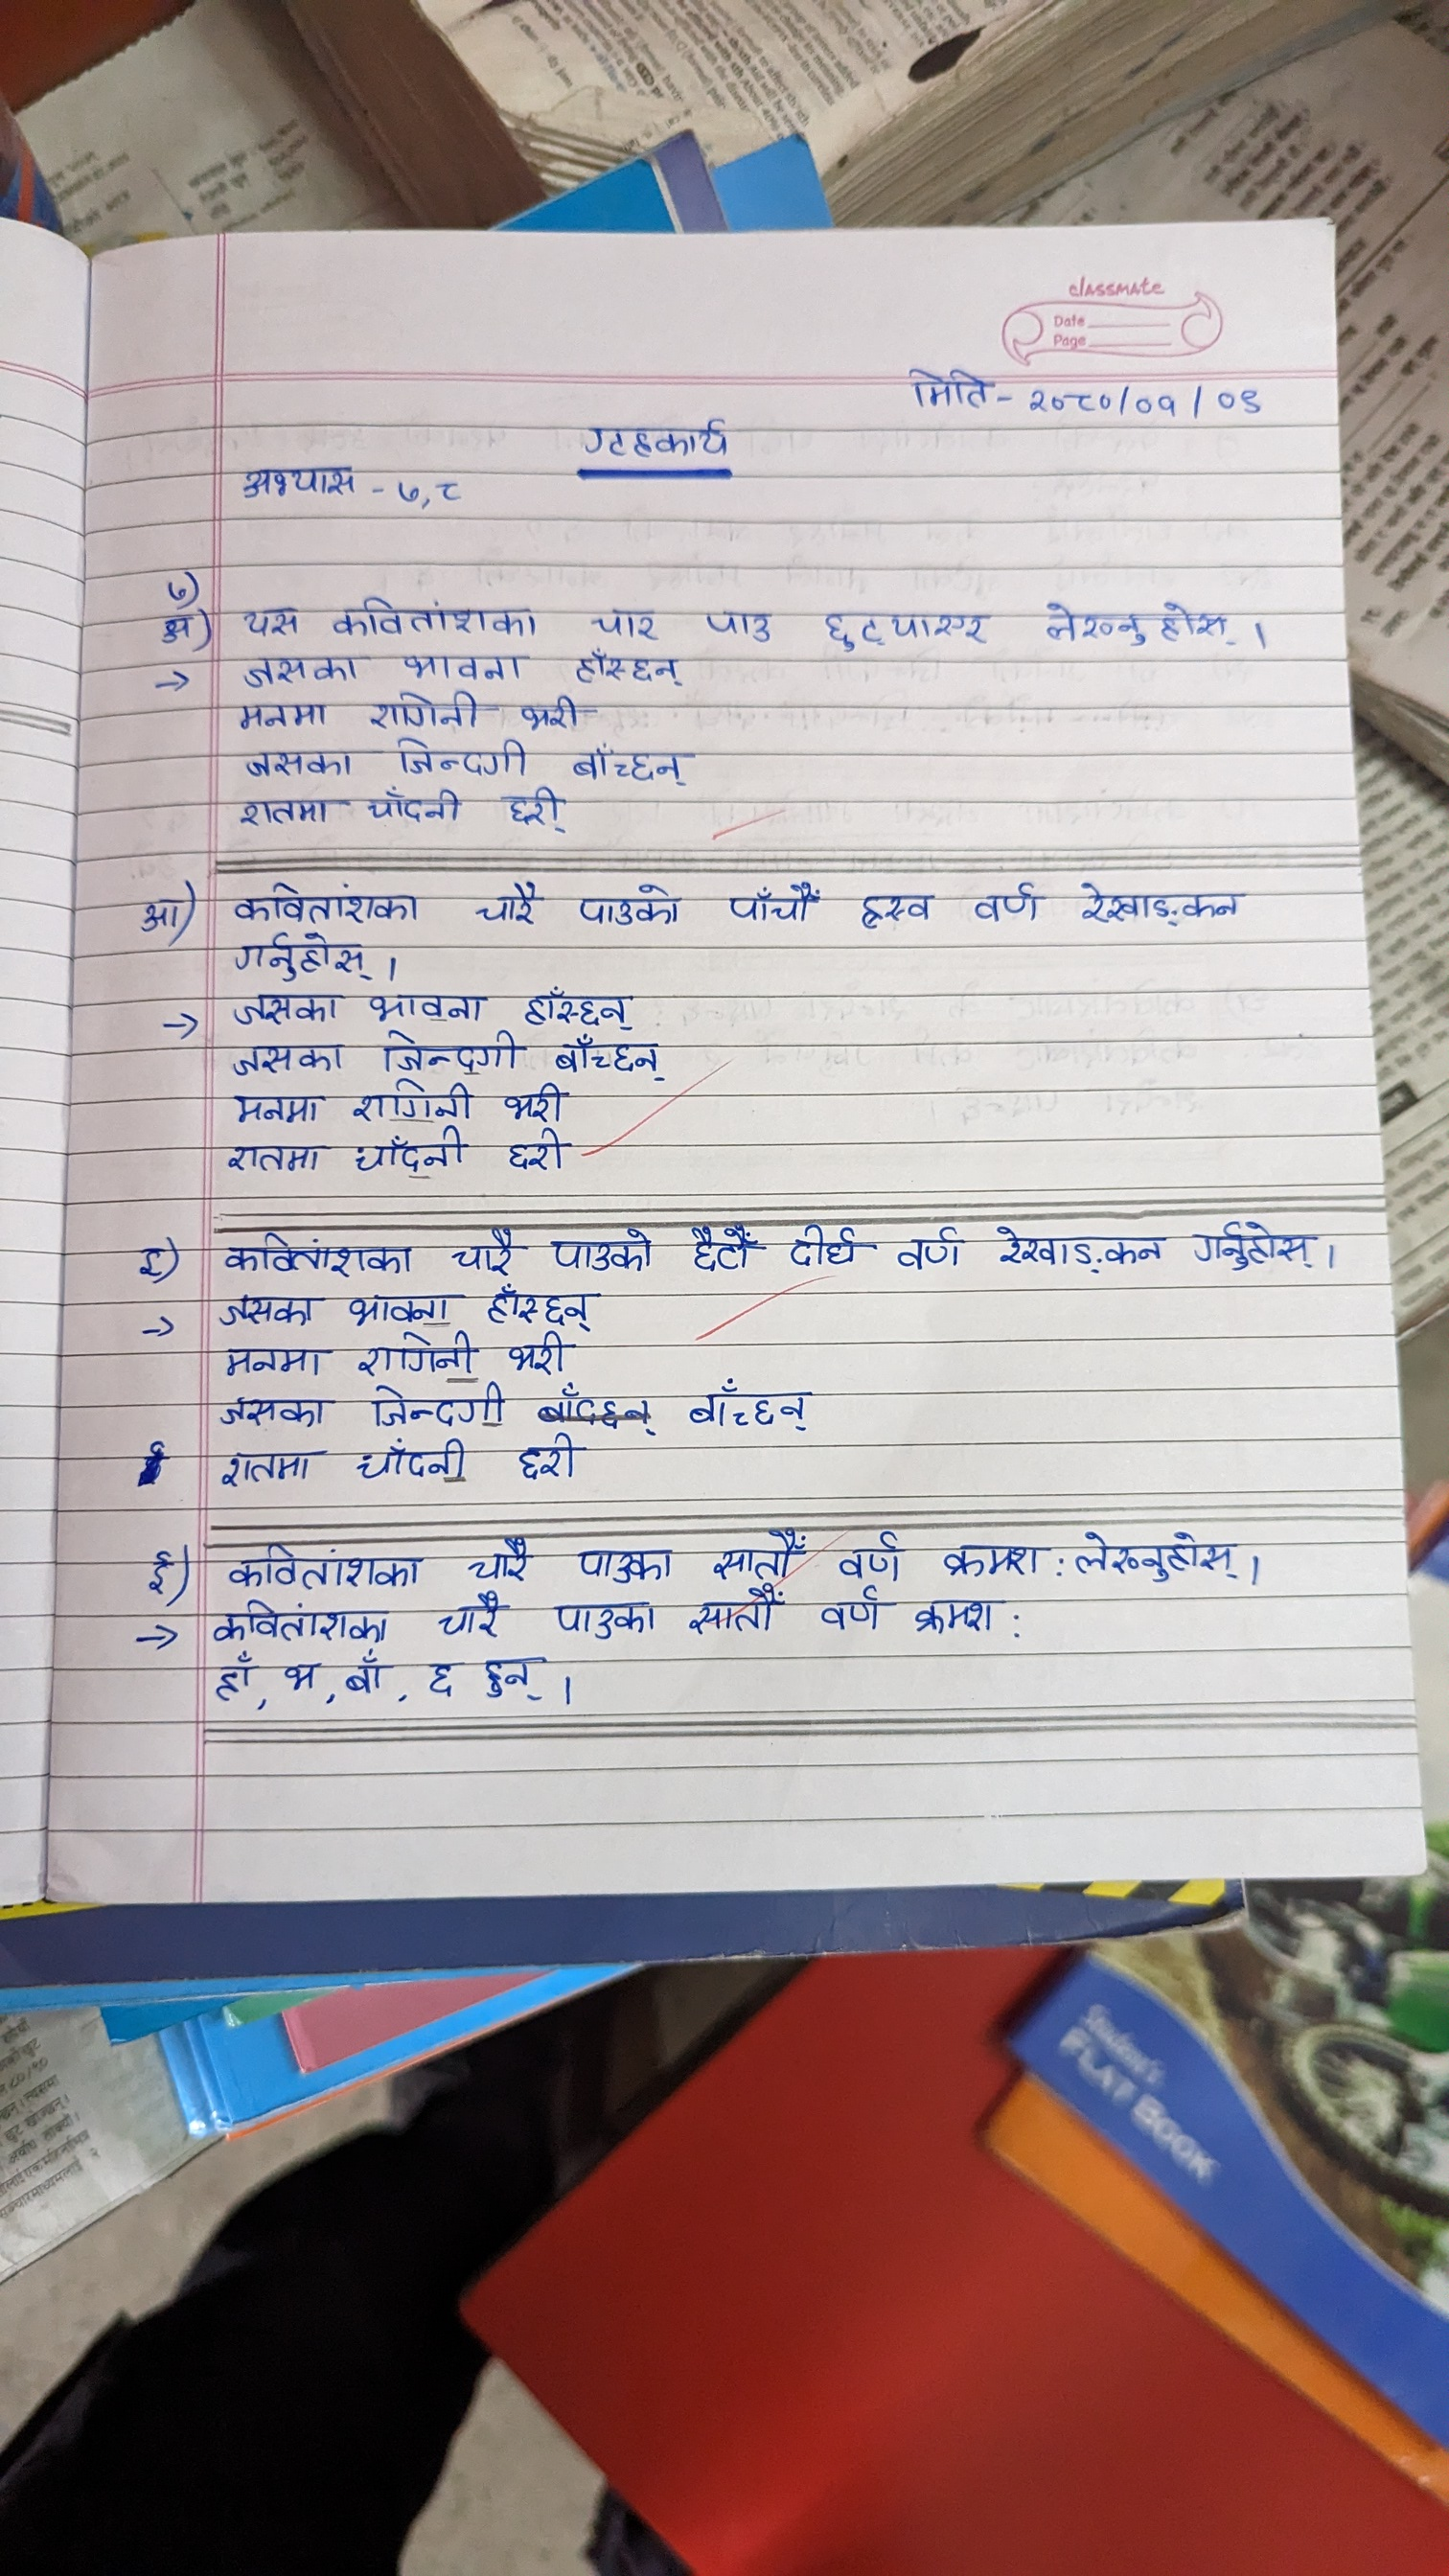text: (1028, 593, 1237, 658), (564, 393, 741, 469), (327, 586, 545, 646), (221, 1543, 430, 1592), (807, 596, 987, 653), (985, 1221, 1168, 1272), (1072, 1527, 1247, 1580), (230, 879, 425, 925), (223, 1231, 412, 1277), (1069, 881, 1251, 929), (232, 931, 382, 984), (209, 1601, 389, 1644), (559, 740, 708, 791), (1191, 1214, 1320, 1270), (364, 1382, 510, 1431), (897, 354, 996, 421), (393, 734, 534, 780), (379, 1031, 517, 1077), (517, 982, 644, 1031), (686, 1382, 812, 1431), (573, 876, 685, 931), (239, 455, 357, 504), (479, 1283, 602, 1329), (354, 1329, 469, 1376), (717, 878, 823, 929), (548, 1224, 653, 1276), (349, 1131, 467, 1175), (354, 1440, 472, 1484), (575, 1536, 685, 1582), (548, 1035, 667, 1077), (936, 1534, 1044, 1580), (395, 648, 534, 683), (239, 741, 364, 780), (246, 653, 361, 695), (547, 1598, 662, 1640), (226, 1040, 350, 1079), (205, 1392, 333, 1430), (354, 1083, 474, 1122), (225, 793, 340, 833), (683, 1223, 764, 1279), (232, 987, 340, 1030), (849, 883, 938, 934), (709, 1530, 798, 1582), (692, 1589, 786, 1637), (1024, 372, 1111, 423), (370, 989, 488, 1026), (830, 1527, 909, 1582), (373, 692, 485, 731), (897, 1215, 971, 1274), (214, 1338, 331, 1375), (446, 1226, 527, 1279), (573, 649, 688, 685), (469, 878, 547, 929), (460, 1541, 543, 1589), (347, 1286, 453, 1323), (234, 699, 338, 736), (225, 1143, 329, 1180), (212, 1292, 317, 1329), (476, 1649, 548, 1702), (787, 1226, 867, 1274), (230, 1090, 327, 1129), (971, 878, 1042, 929), (913, 1592, 998, 1635), (219, 1447, 308, 1488), (513, 1433, 582, 1483), (702, 603, 775, 649), (366, 791, 465, 824), (237, 596, 306, 642), (504, 793, 573, 839), (819, 1587, 886, 1633), (341, 1649, 395, 1706), (506, 1332, 573, 1376), (506, 1132, 570, 1178), (589, 602, 660, 640), (501, 1086, 571, 1125), (1205, 375, 1261, 423), (439, 1596, 502, 1637), (207, 1649, 258, 1698), (518, 697, 596, 729), (129, 1545, 177, 1591), (133, 890, 184, 932), (131, 1237, 177, 1283), (278, 1649, 320, 1698), (154, 563, 203, 603), (1132, 386, 1182, 423), (384, 474, 430, 513), (426, 1658, 464, 1706), (430, 469, 471, 506), (156, 616, 209, 642)
